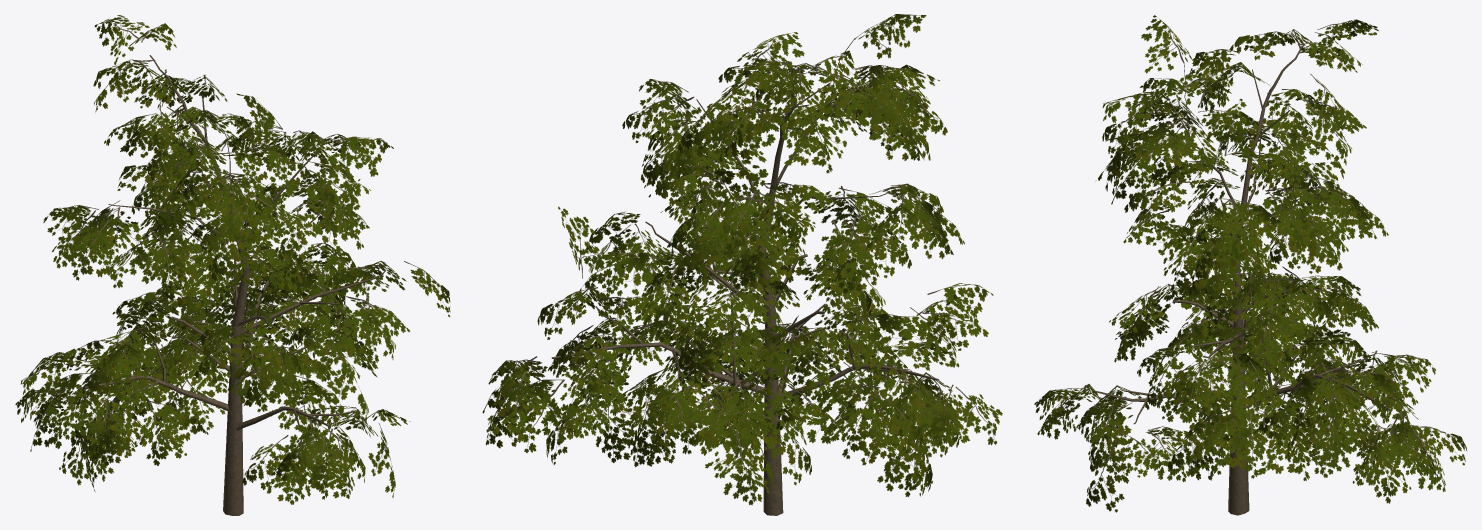
File: maple_acer_medium_1_lod2.gltf
3 renders of one model, left to right at view 1: azimuth 30°, elevation 25°; view 2: azimuth 150°, elevation 25°; view 3: azimuth 270°, elevation 25°, orthographic. The views are drawn at different scales.
Visible parts, largest first — view 1: Acer_medium_1_LOD2_Cluster_Mat_0, Acer_medium_1_LOD2_Bark_Mat_0; view 2: Acer_medium_1_LOD2_Cluster_Mat_0, Acer_medium_1_LOD2_Bark_Mat_0; view 3: Acer_medium_1_LOD2_Cluster_Mat_0, Acer_medium_1_LOD2_Bark_Mat_0.
Boxes of the visible parts, bbox=[...] form: Acer_medium_1_LOD2_Cluster_Mat_0: bbox=[15, 15, 450, 504]; Acer_medium_1_LOD2_Bark_Mat_0: bbox=[77, 55, 385, 515]; Acer_medium_1_LOD2_Cluster_Mat_0: bbox=[482, 14, 1002, 505]; Acer_medium_1_LOD2_Bark_Mat_0: bbox=[551, 38, 938, 515]; Acer_medium_1_LOD2_Cluster_Mat_0: bbox=[1034, 15, 1466, 512]; Acer_medium_1_LOD2_Bark_Mat_0: bbox=[1095, 31, 1389, 515].
Bounding box in the file's own units: 11.3 × 12.41 × 10.62.
Materials: 2 (2 with a texture image).
